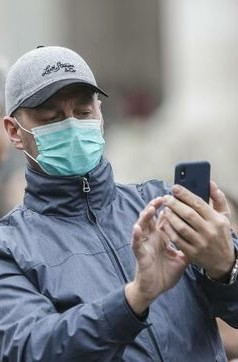with_mask: (4, 51, 130, 193)
